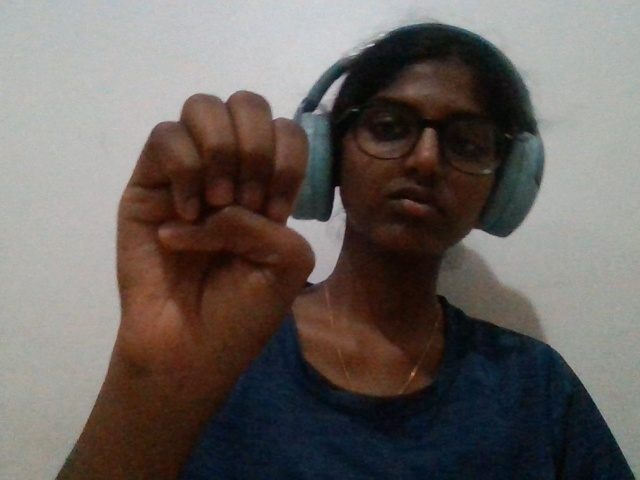E: (57, 65, 332, 420)
